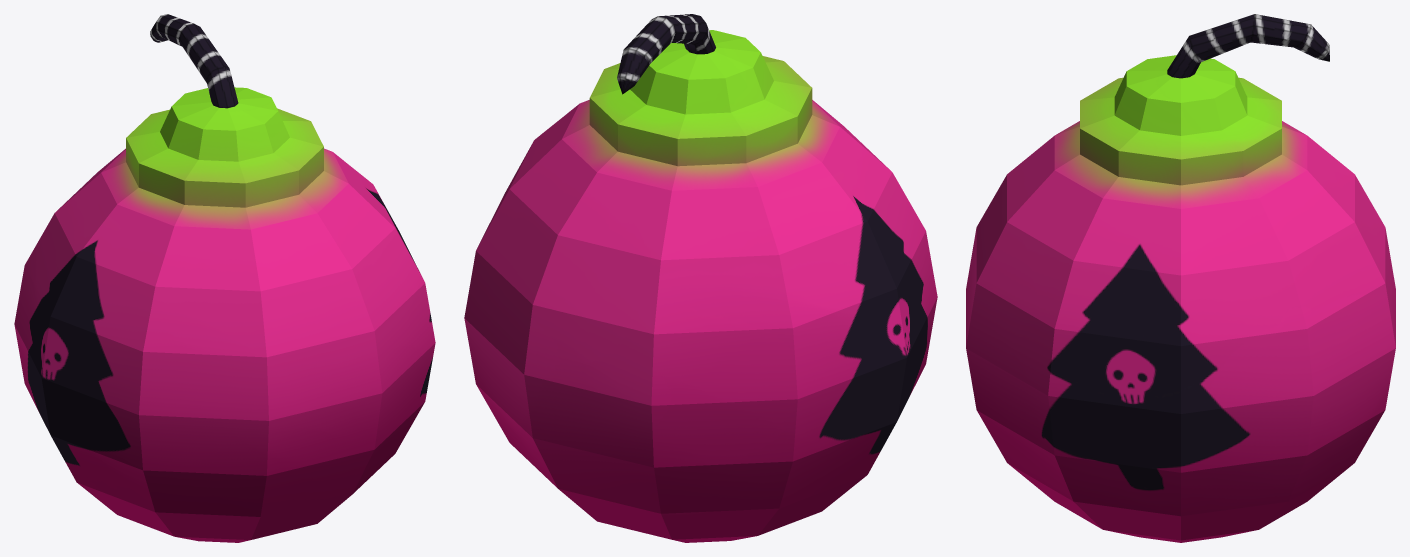
File: Bomb_Model_1.fbx
3 renders of one model, left to right at view 1: azimuth 30°, elevation 25°; view 2: azimuth 150°, elevation 25°; view 3: azimuth 270°, elevation 25°, orthographic. The views are drawn at different scales.
Parts seen in each view (by area): view 1: Bomb_model; view 2: Bomb_model; view 3: Bomb_model.
Boxes of the visible parts, x1=… form: Bomb_model: x1=14, y1=14, x2=435, y2=542; Bomb_model: x1=464, y1=14, x2=937, y2=542; Bomb_model: x1=966, y1=14, x2=1395, y2=542.
Size of the model in its own units: 0.0648 by 0.0803 by 0.0617.
1 material, 1 textured.
